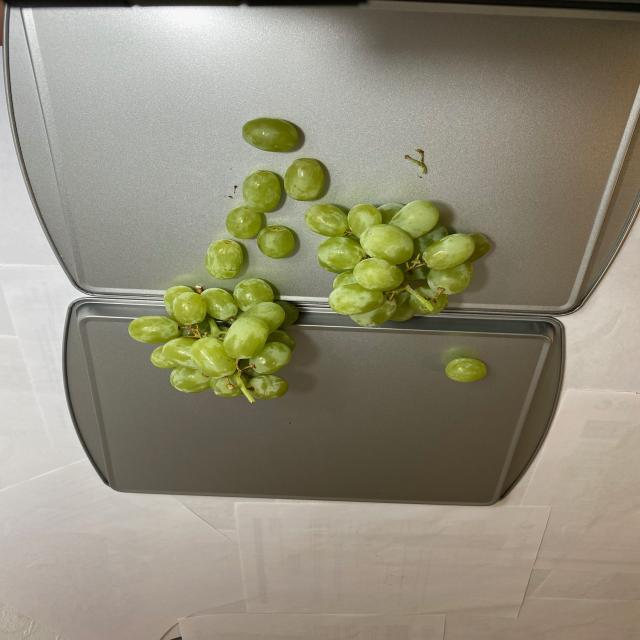grapes: (130, 112, 493, 402)
